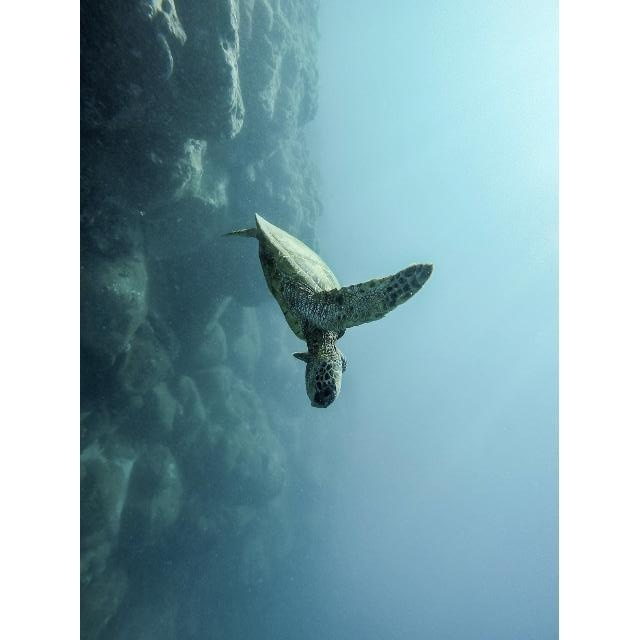turtle: (220, 211, 434, 409)
